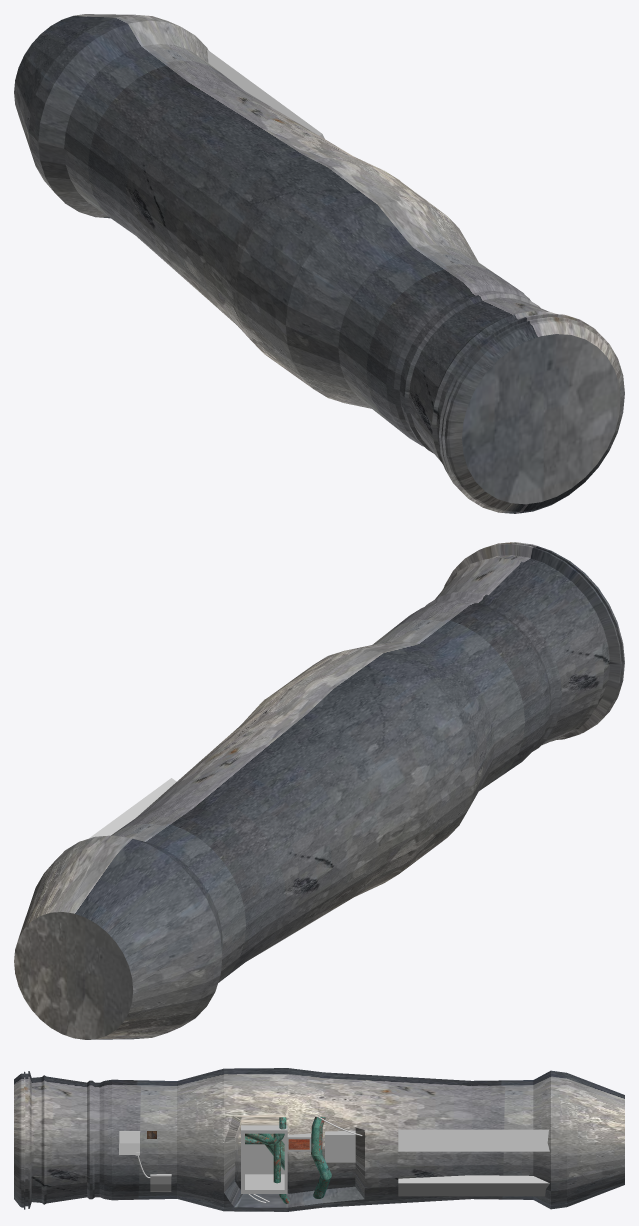
The model's file is engine.fbx.
3 renders of one model, top to bottom at view 1: azimuth 30°, elevation 25°; view 2: azimuth 150°, elevation 25°; view 3: azimuth 270°, elevation 25°, orthographic. The views are drawn at different scales.
Visible parts, largest first — view 1: Cylinder.003, Cylinder.001; view 2: Cylinder.003, Cylinder.001; view 3: Cylinder.003, Cylinder.001, Cylinder.002, Cylinder.006, Cube.003, Plane.001.
Part boxes in pixels (x1,y1,x2,y2): Cylinder.003: (14, 14, 624, 513); Cylinder.001: (207, 50, 529, 299); Cylinder.003: (14, 542, 624, 1039); Cylinder.001: (88, 778, 176, 838); Cylinder.003: (14, 1068, 624, 1211); Cylinder.001: (119, 1129, 549, 1196); Cylinder.002: (241, 1125, 287, 1193); Cylinder.006: (245, 1117, 331, 1203); Cube.003: (287, 1133, 311, 1151); Plane.001: (288, 1139, 309, 1149).
Bounding box in the file's own units: 110 × 110 × 468.
